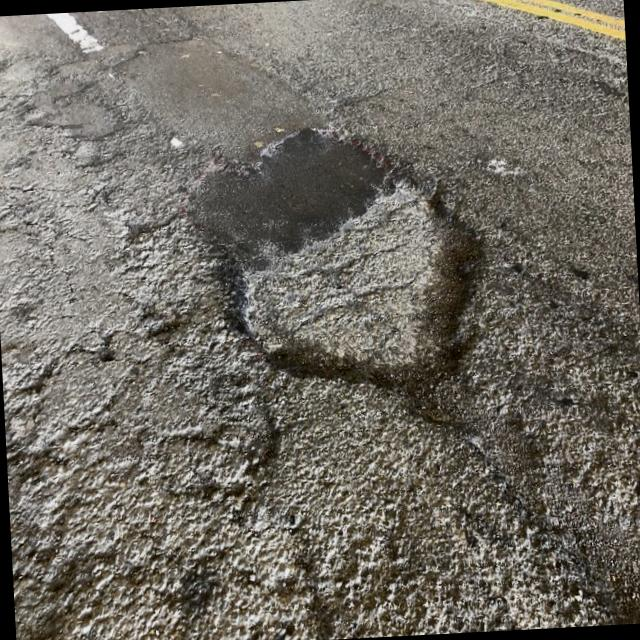bad-road: (180, 115, 497, 434)
